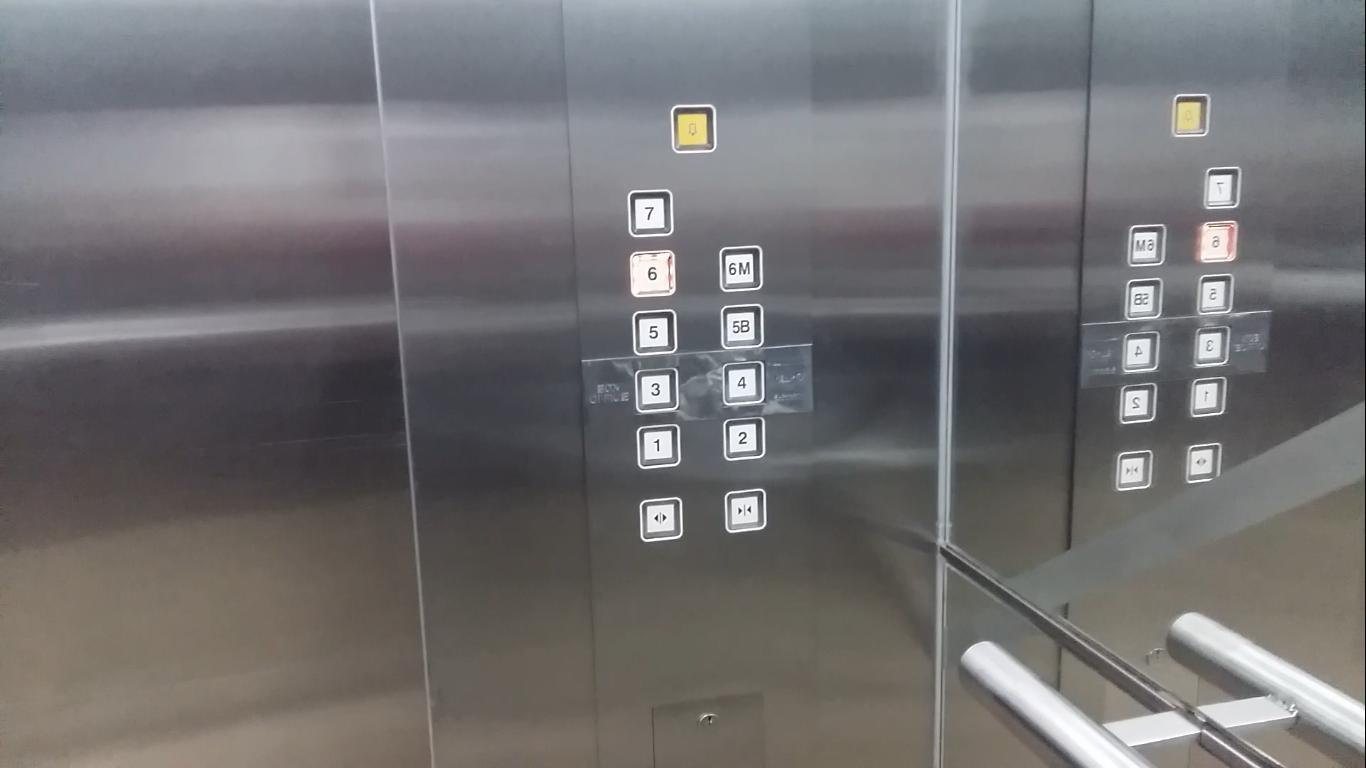1: (636, 423, 683, 469)
2: (720, 415, 767, 461)
3: (633, 364, 680, 413)
4: (718, 358, 765, 407)
5: (631, 306, 678, 355)
6: (628, 247, 676, 299)
7: (626, 187, 674, 239)
alarm: (667, 102, 716, 153)
close: (721, 486, 768, 532)
open: (637, 495, 684, 541)
unknown: (716, 243, 764, 295), (719, 302, 766, 351)
